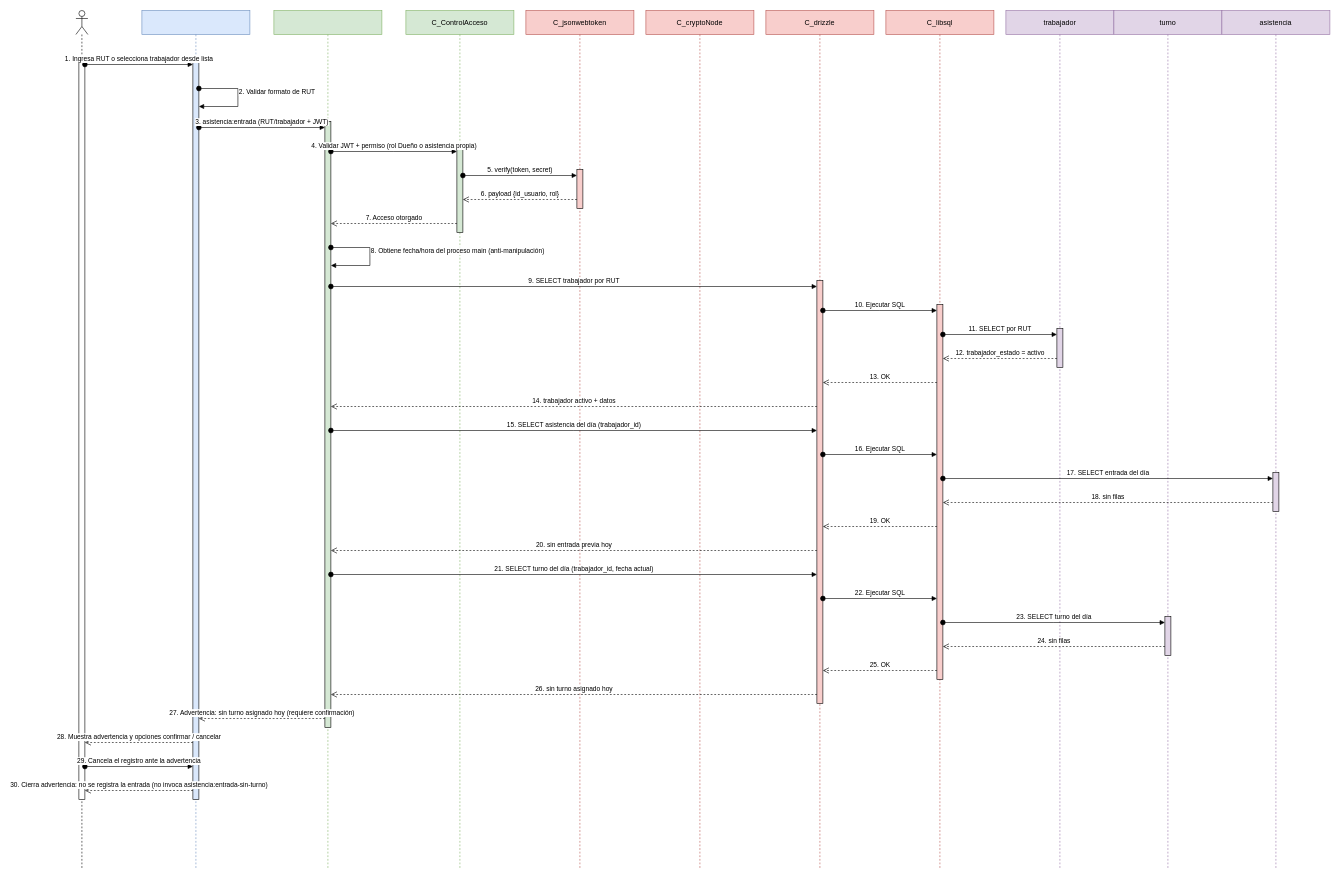
Image size: 1340x879. Some labels were removed from this diagram. Each missing label, with the box of its shape:
C_AsistenciaHandler: (273, 10, 382, 868)
Dueño / Trabajador: (75, 10, 88, 868)
V_RegistrarEntradaView: (141, 10, 250, 868)
